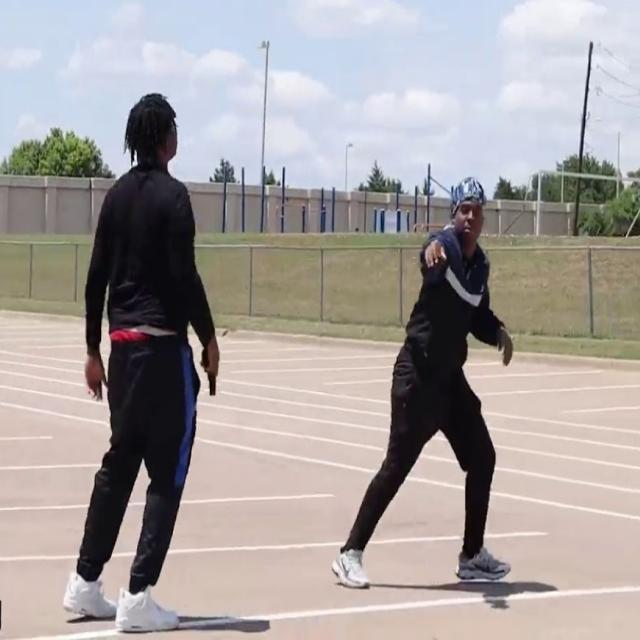Handgun: (195, 333, 236, 407)
